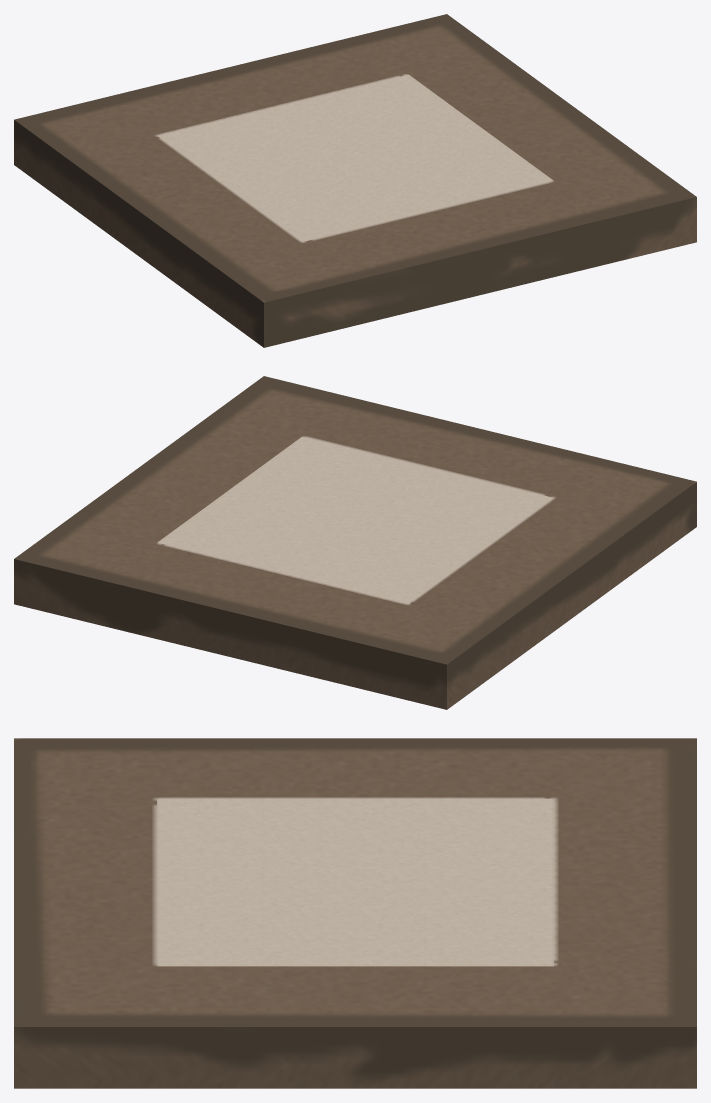
Rendered from Road4.fbx.
3 renders of one model, top to bottom at view 1: azimuth 30°, elevation 25°; view 2: azimuth 150°, elevation 25°; view 3: azimuth 270°, elevation 25°, orthographic. The views are drawn at different scales.
Parts seen in each view (by area): view 1: pCube3; view 2: pCube3; view 3: pCube3.
Part boxes in pixels (box(x1,y1,x2,y2)): pCube3: box(14, 14, 696, 347); pCube3: box(14, 376, 696, 709); pCube3: box(14, 738, 696, 1088).
Size of the model in its own units: 1000 by 100 by 1000.
Materials: 1 (1 with a texture image).
